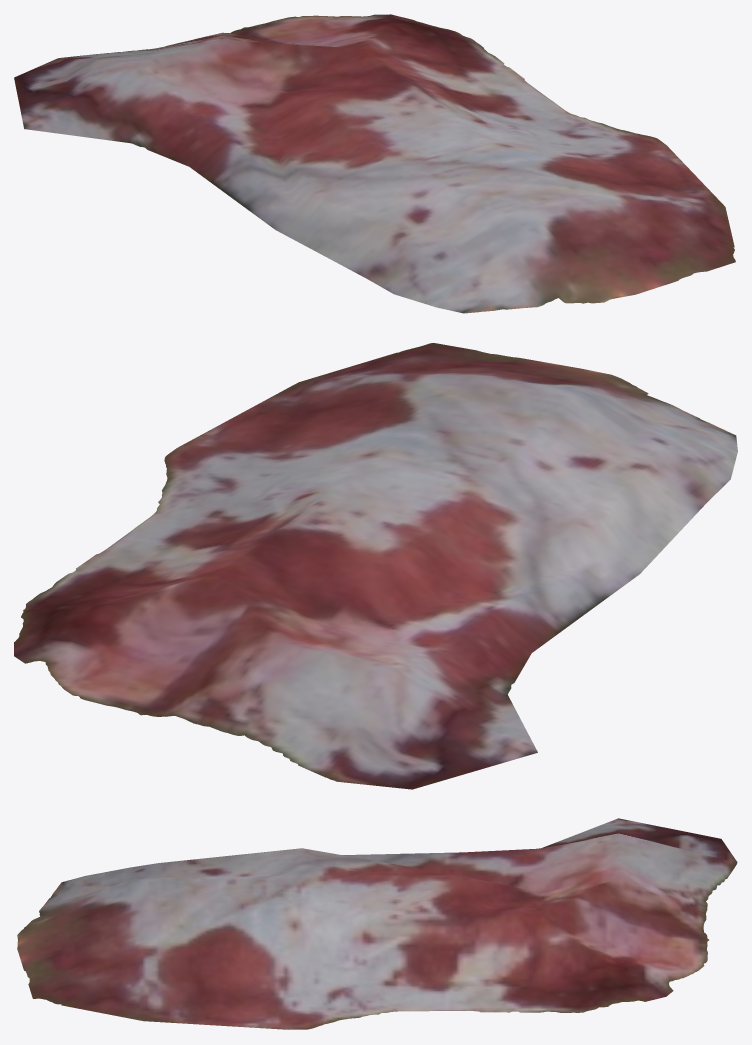
Rendered from freezer_cloth_1.FBX.
The picture shows the model from 3 angles, top to bottom: view 1: azimuth 30°, elevation 25°; view 2: azimuth 150°, elevation 25°; view 3: azimuth 270°, elevation 25°; orthographic projection. The views are drawn at different scales.
Visible parts, largest first — view 1: freezer_cloth_1; view 2: freezer_cloth_1; view 3: freezer_cloth_1.
Part boxes in pixels (x1,y1,x2,y2): freezer_cloth_1: (14, 14, 735, 313); freezer_cloth_1: (14, 343, 737, 789); freezer_cloth_1: (17, 818, 737, 1029).
Bounding box in the file's own units: 158 × 14.25 × 227.
